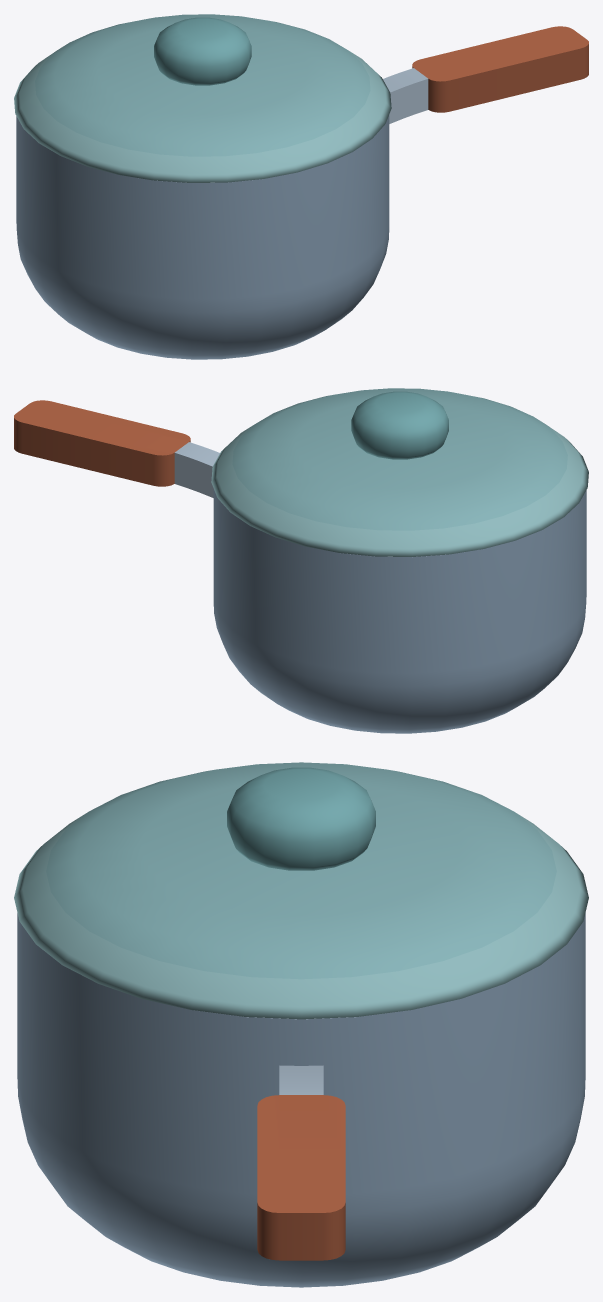
Rendered from Pot D.fbx.
3 renders of one model, top to bottom at view 1: azimuth 30°, elevation 25°; view 2: azimuth 150°, elevation 25°; view 3: azimuth 270°, elevation 25°, orthographic. The views are drawn at different scales.
Parts seen in each view (by area): view 1: Pot.008, Pot.009; view 2: Pot.008, Pot.009; view 3: Pot.008, Pot.009.
Part boxes in pixels (x1,y1,x2,y2): Pot.008: (16, 26, 588, 359); Pot.009: (14, 14, 391, 182); Pot.008: (14, 400, 586, 733); Pot.009: (211, 388, 588, 556); Pot.008: (17, 913, 585, 1287); Pot.009: (14, 762, 588, 1019).
Size of the model in its own units: 0.8865 by 0.425 by 0.5368.
